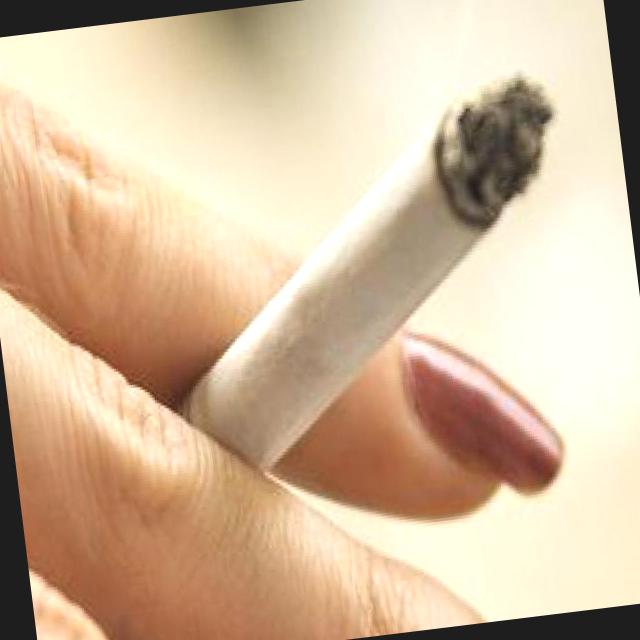smoke: (131, 70, 593, 507)
